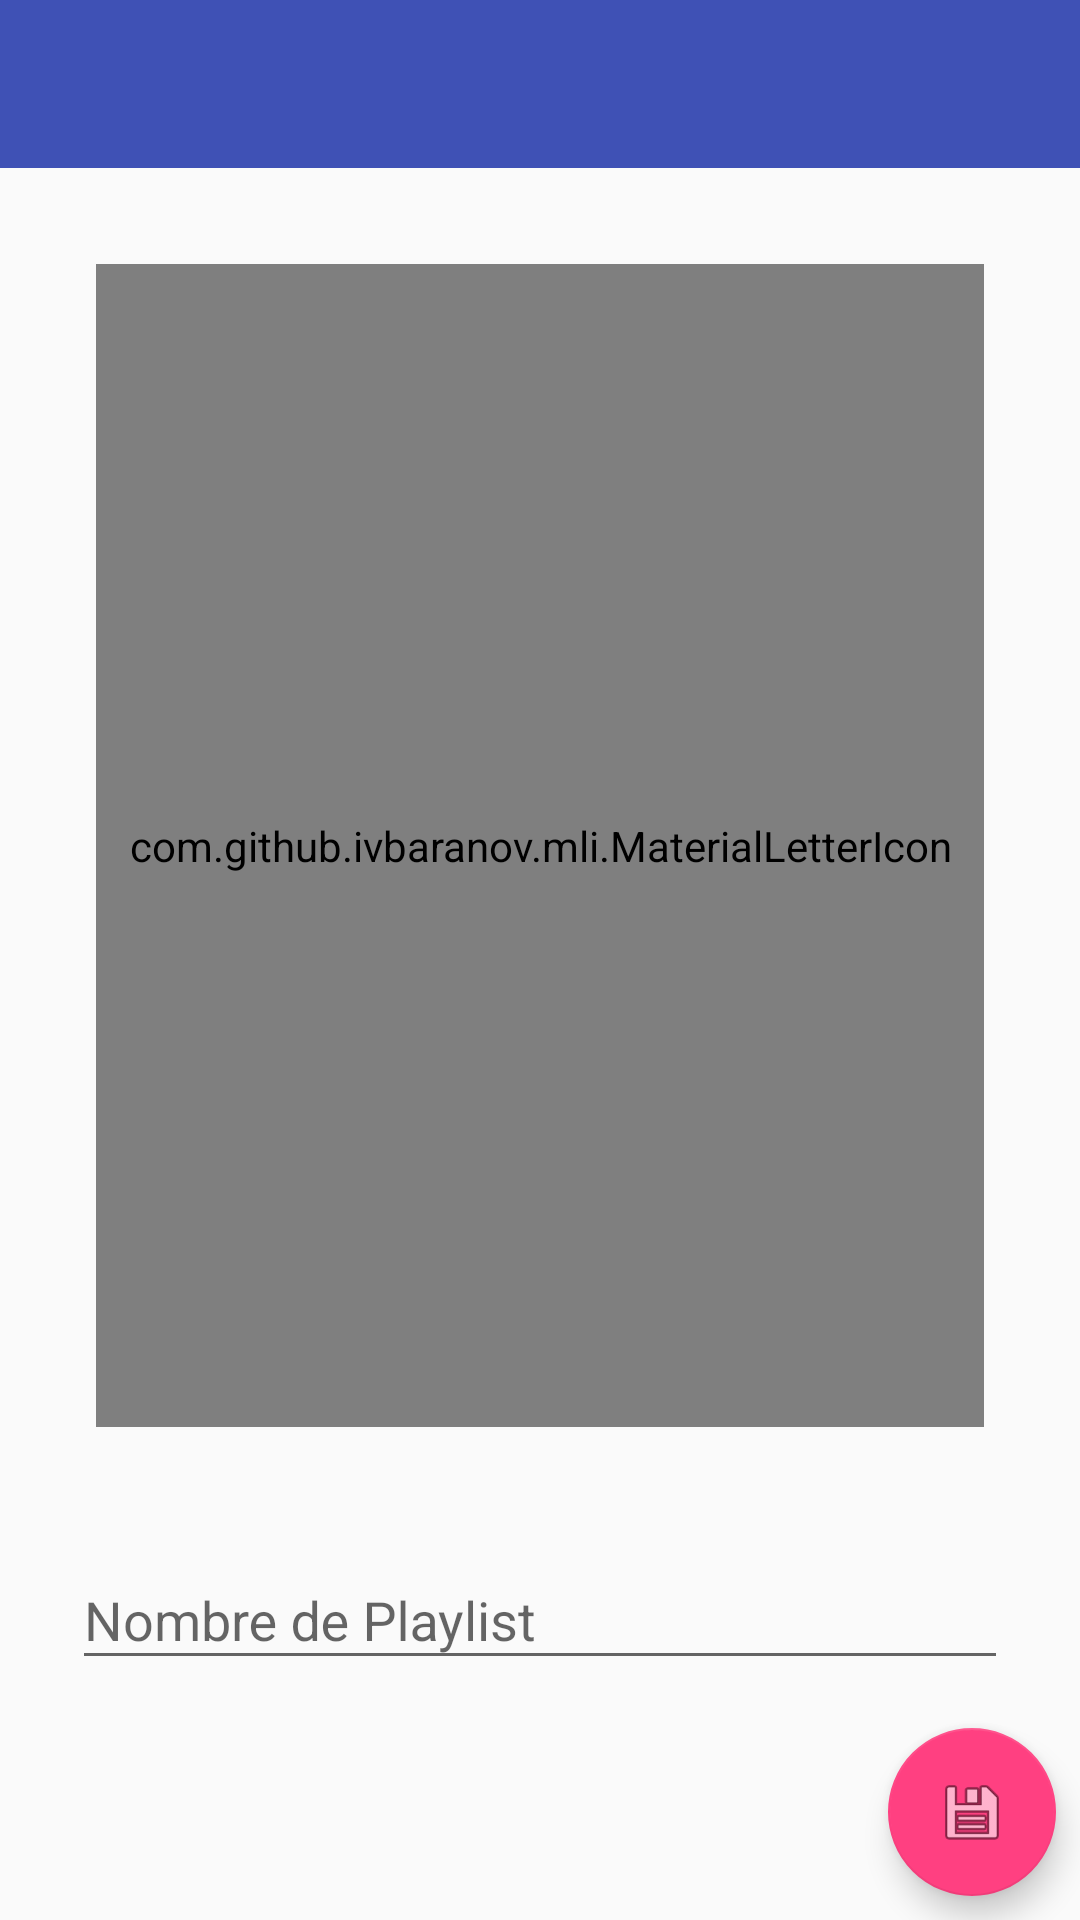

Named icons in this screenshot (1080px x 1920px) and their centers, (x,y):
save: (972,1812)
